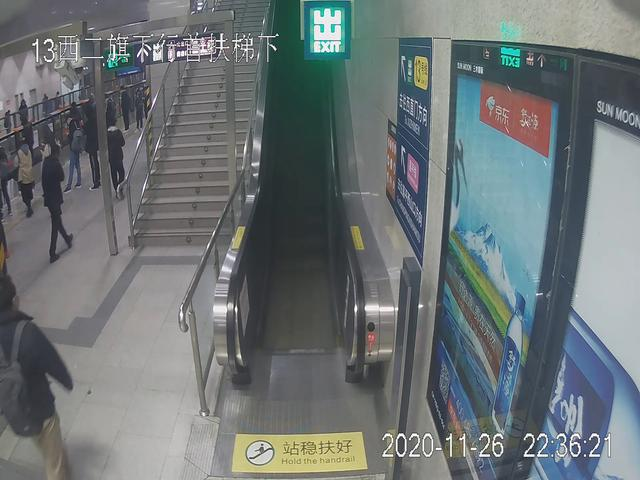person: (1, 273, 79, 480), (39, 141, 74, 265), (9, 139, 36, 214), (104, 117, 127, 200), (64, 114, 84, 199)
